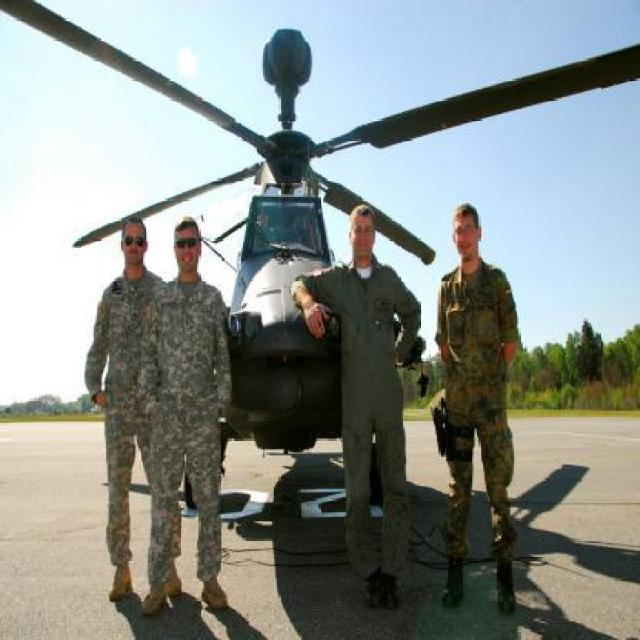Person: (290, 199, 422, 610), (81, 211, 185, 604), (430, 192, 521, 625), (139, 208, 235, 615)
